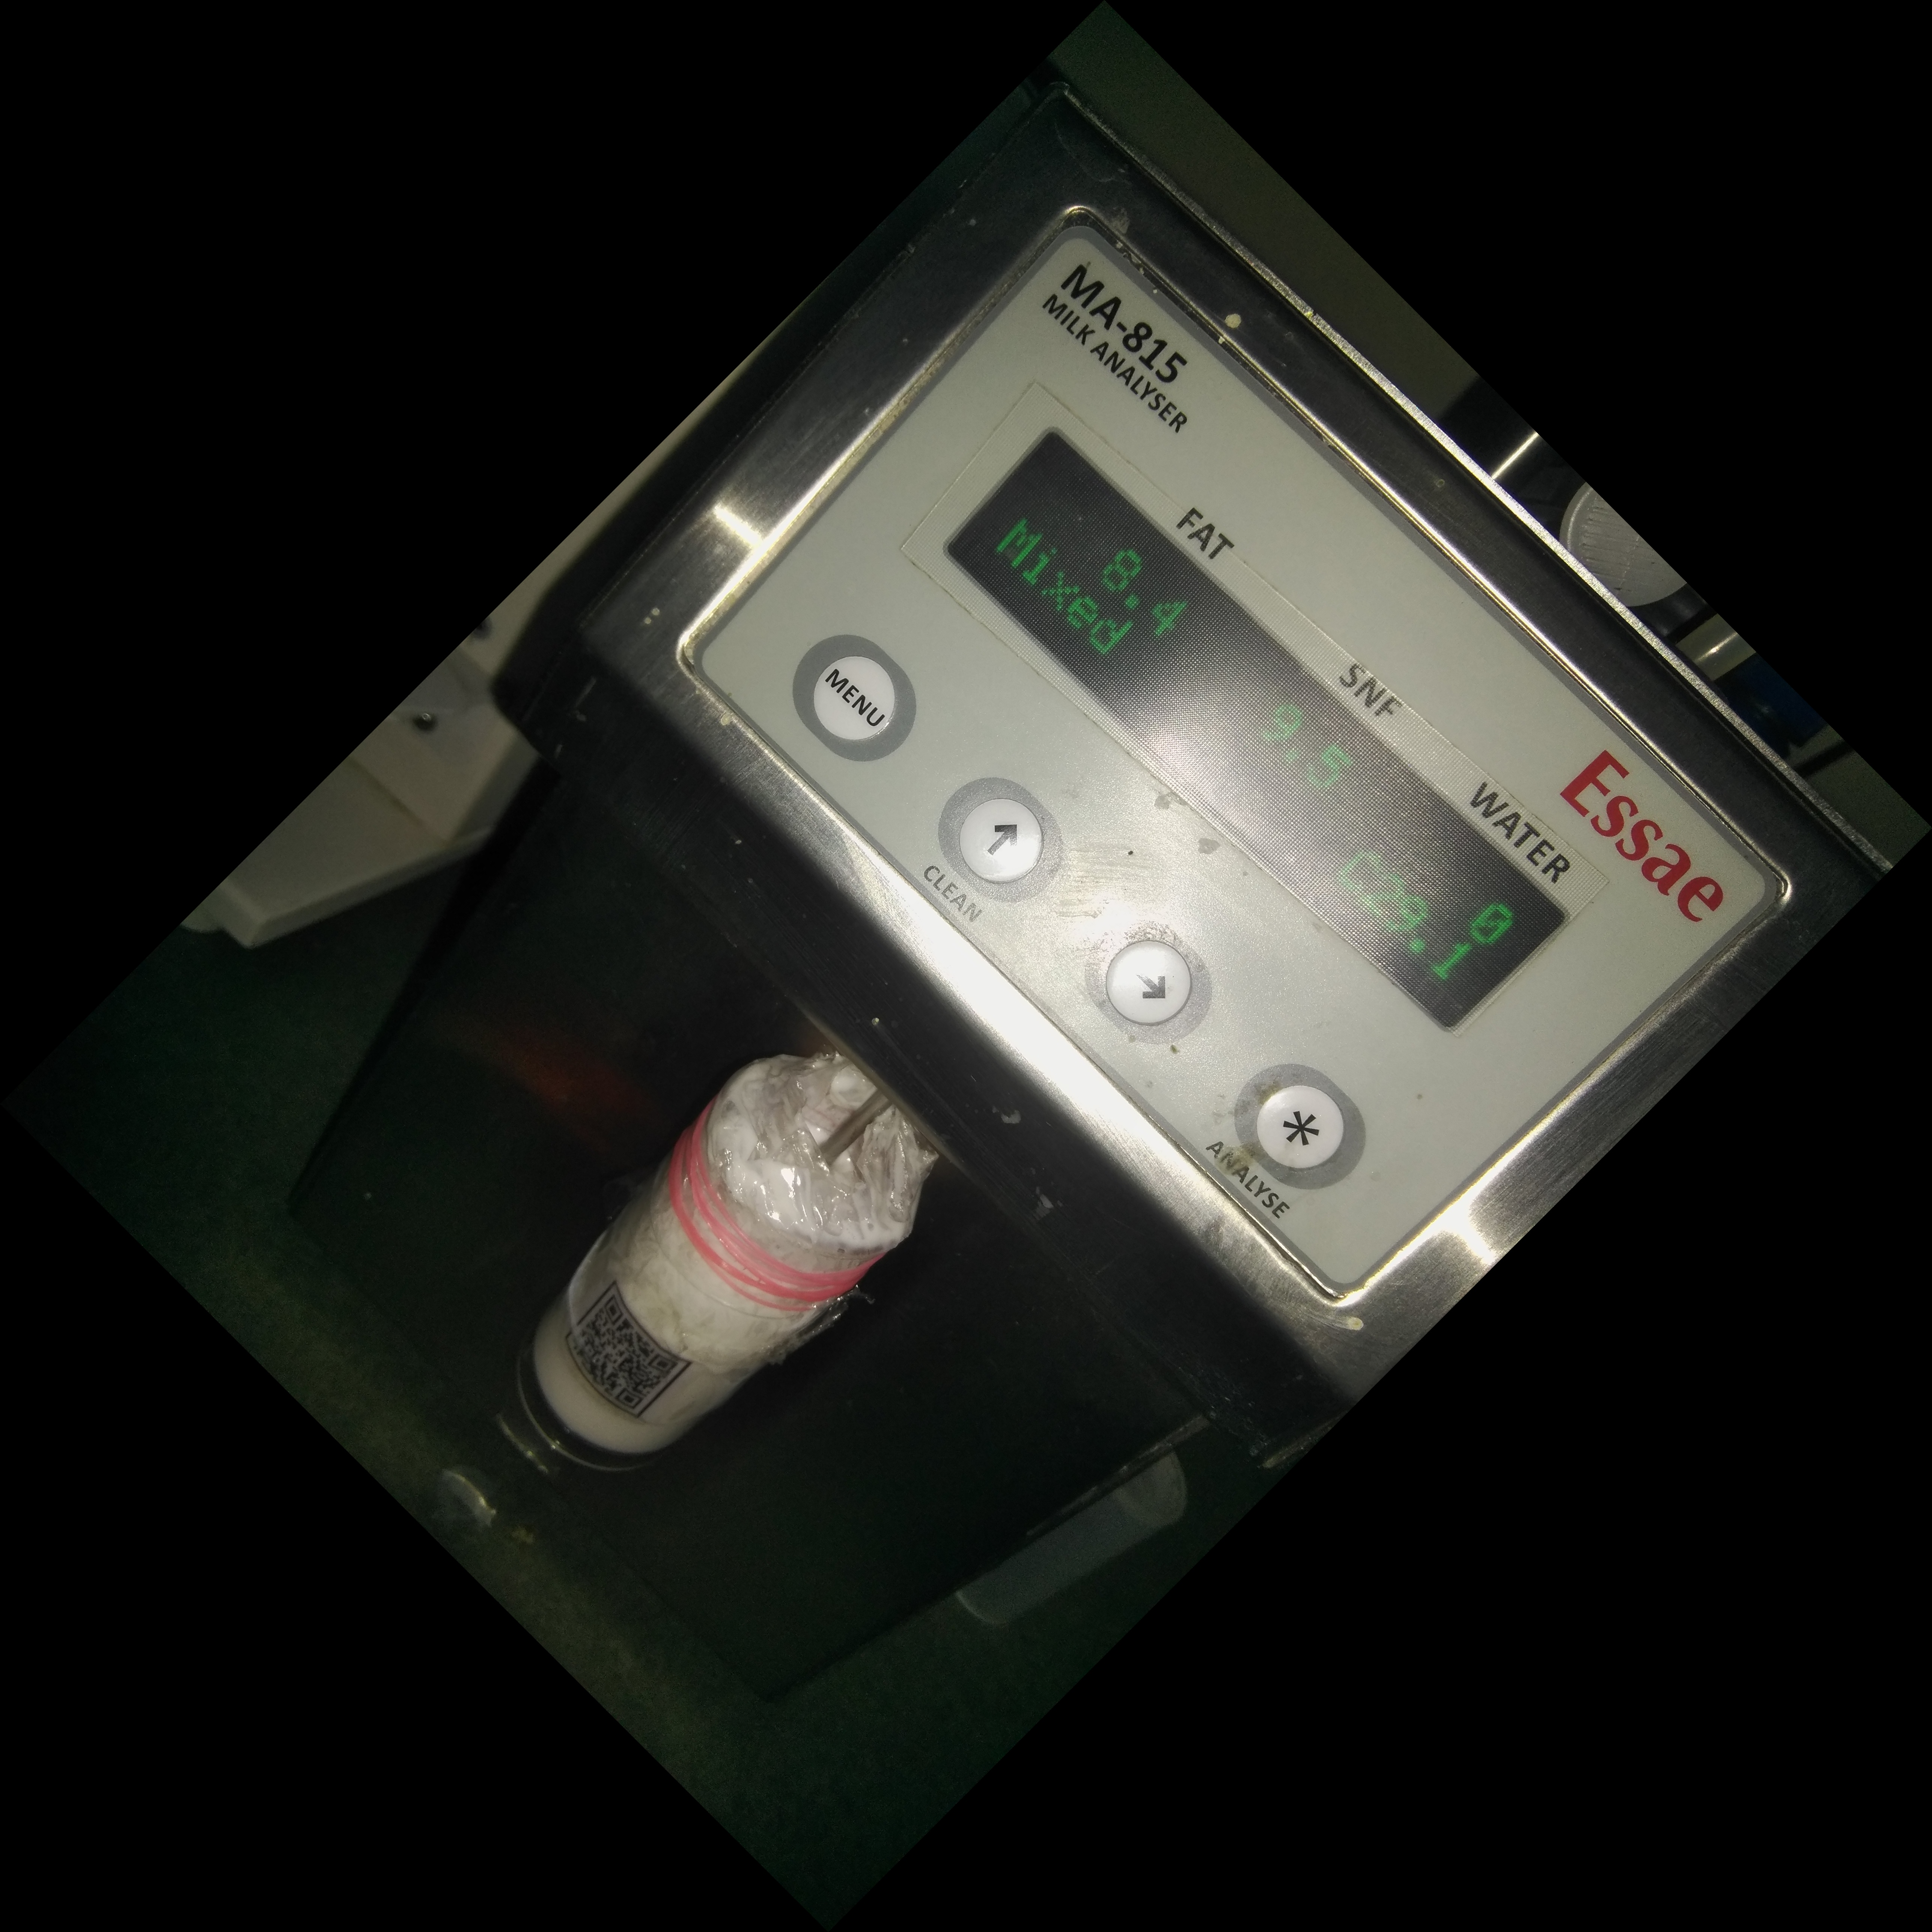lcd: (904, 403, 1583, 1040)
qr: (548, 1260, 715, 1467)
